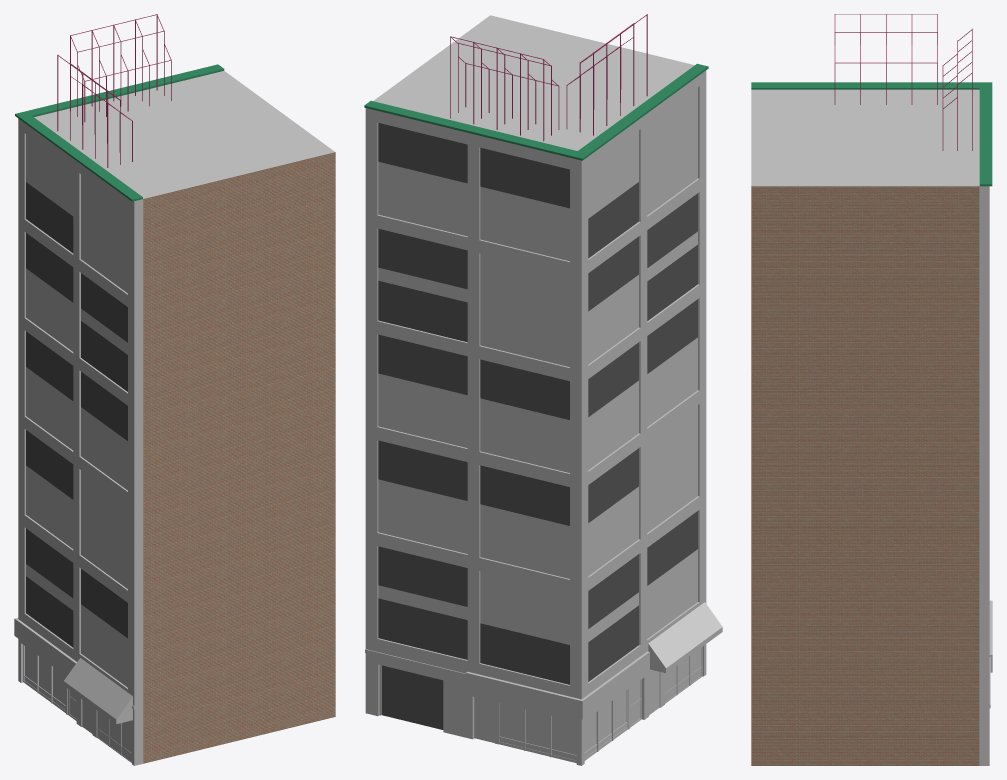
File: mcp_building_29_LOD_1.FBX
3 views of the same model, side by side, from view 1: azimuth 30°, elevation 25°; view 2: azimuth 150°, elevation 25°; view 3: azimuth 270°, elevation 25° (orthographic). The views are drawn at different scales.
Parts seen in each view (by area): view 1: mcp_building_29_walls, mcp_building_29, mcp_building_29_billboards; view 2: mcp_building_29, mcp_building_29_walls, mcp_building_29_billboards, mcp_building_29_props_04; view 3: mcp_building_29_walls, mcp_building_29, mcp_building_29_billboards.
Part boxes in pixels (left/top/right/bottom): mcp_building_29_walls: left=15, top=64, right=335, bottom=765; mcp_building_29: left=14, top=118, right=143, bottom=762; mcp_building_29_billboards: left=57, top=14, right=171, bottom=167; mcp_building_29: left=365, top=70, right=722, bottom=762; mcp_building_29_walls: left=364, top=15, right=708, bottom=765; mcp_building_29_billboards: left=450, top=14, right=647, bottom=141; mcp_building_29_props_04: left=381, top=665, right=443, bottom=729; mcp_building_29_walls: left=751, top=82, right=992, bottom=765; mcp_building_29: left=979, top=186, right=992, bottom=708; mcp_building_29_billboards: left=834, top=14, right=972, bottom=150.
Bounding box in the file's own units: 1638 × 4611 × 1533.
